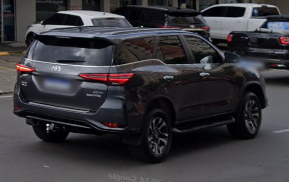car: (13, 27, 273, 162)
